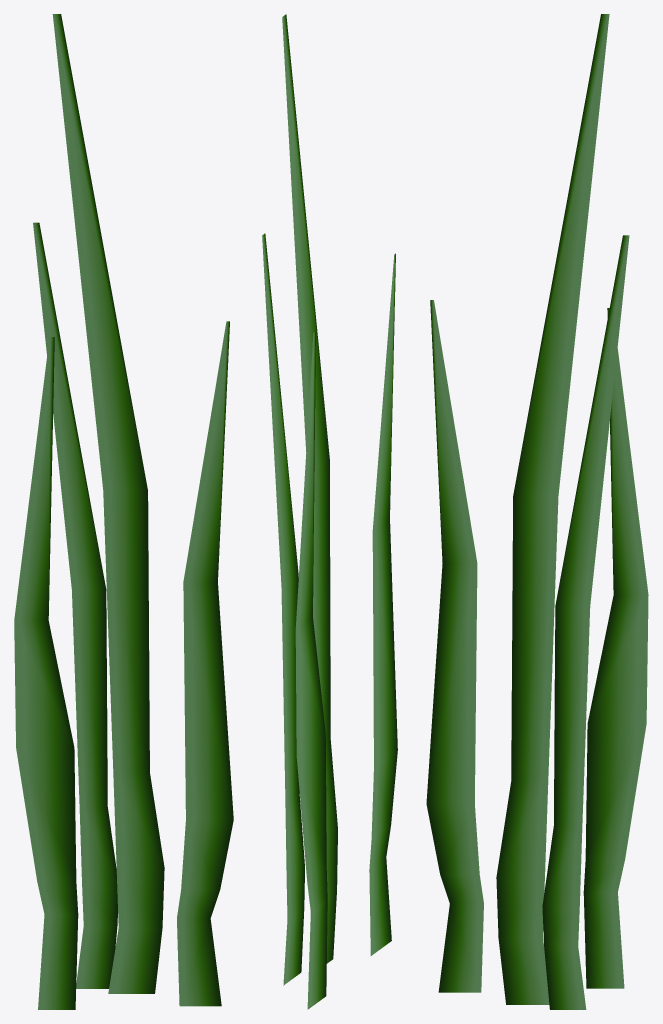
The model's file is GAMEJAMPUFFER - Grass 2.fbx.
The picture shows the model from 3 angles, left to right: view 1: azimuth 90°, elevation 25°; view 2: azimuth 150°, elevation 25°; view 3: azimuth 270°, elevation 25°; orthographic projection.
Parts seen in each view (by area): view 1: Plane.025; view 2: Plane.025; view 3: Plane.025.
Boxes of the visible parts, box(x1,y1,x2,y2) form: Plane.025: box(14, 14, 233, 1009); Plane.025: box(262, 14, 397, 1009); Plane.025: box(426, 14, 648, 1009).
Bounding box in the file's own units: 17 × 370 × 75.18.
Materials: 1 (1 with a texture image).
